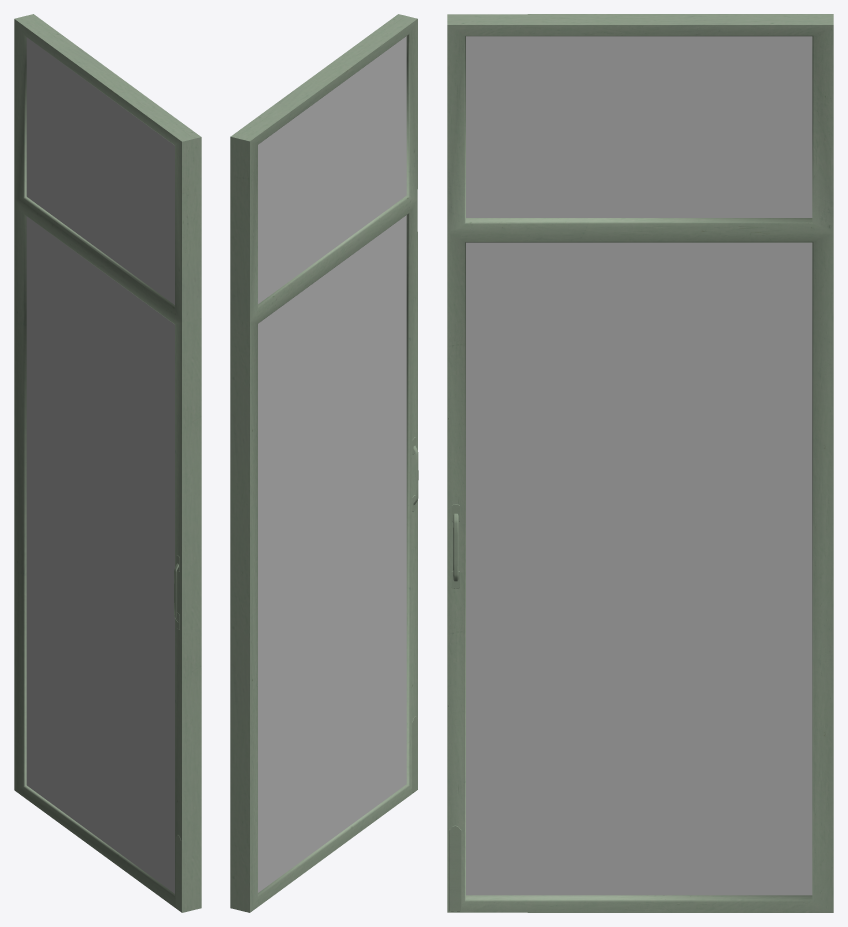
Rendered from SM_WW35_Door_1.fbx.
3 renders of one model, left to right at view 1: azimuth 30°, elevation 25°; view 2: azimuth 150°, elevation 25°; view 3: azimuth 270°, elevation 25°, orthographic. The views are drawn at different scales.
Parts seen in each view (by area): view 1: SM_WW35_Door_1; view 2: SM_WW35_Door_1; view 3: SM_WW35_Door_1.
Boxes of the visible parts, left/top/right/bottom form: SM_WW35_Door_1: left=14, top=14, right=201, bottom=912; SM_WW35_Door_1: left=230, top=14, right=418, bottom=912; SM_WW35_Door_1: left=447, top=14, right=833, bottom=912.
Size of the model in its own units: 5.07 by 56.46 by 143.
Materials: 2 (1 with a texture image).
